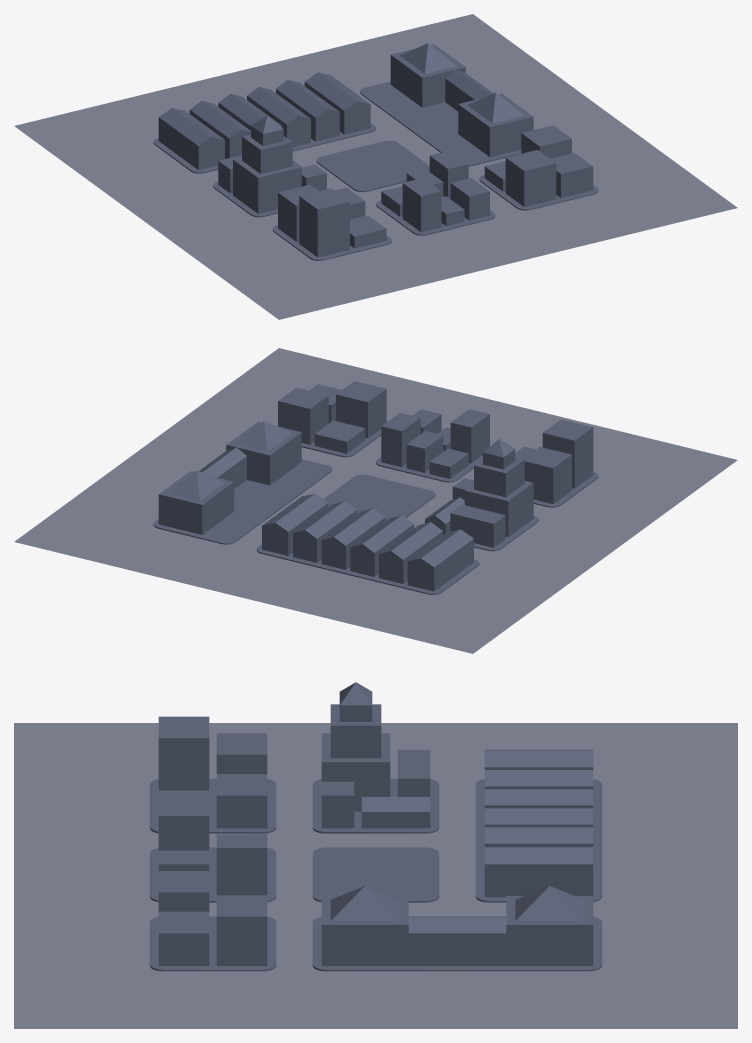
3 renders of one model, top to bottom at view 1: azimuth 30°, elevation 25°; view 2: azimuth 150°, elevation 25°; view 3: azimuth 270°, elevation 25°, orthographic. The views are drawn at different scales.
Parts seen in each view (by area): view 1: Plane, Base; view 2: Plane, Base; view 3: Plane, Base.
Boxes of the visible parts, x1=… form: Plane: x1=14, y1=14, x2=737, y2=319; Base: x1=153, y1=43, x2=598, y2=260; Plane: x1=14, y1=348, x2=737, y2=653; Base: x1=153, y1=381, x2=598, y2=594; Plane: x1=14, y1=723, x2=737, y2=1028; Base: x1=149, y1=682, x2=602, y2=971.
Size of the model in its own units: 40 by 7.1 by 40.
